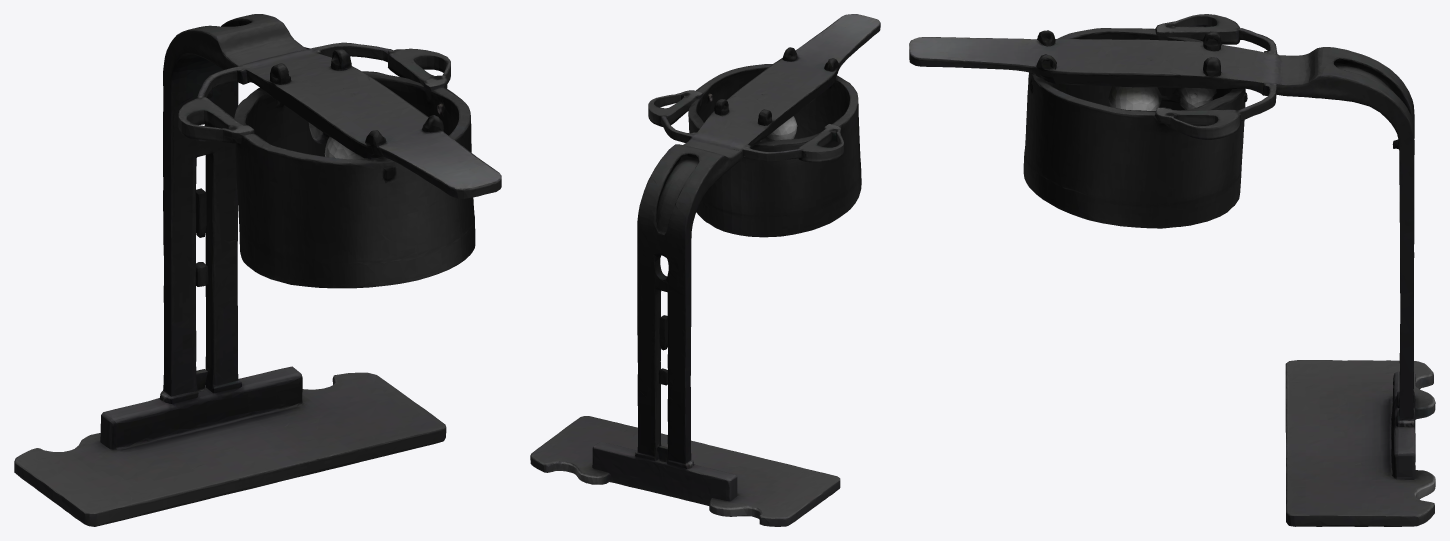
Rendered from ast_9c86b997e241.glb.
The picture shows the model from 3 angles, left to right: view 1: azimuth 30°, elevation 25°; view 2: azimuth 150°, elevation 25°; view 3: azimuth 270°, elevation 25°; orthographic projection. The views are drawn at different scales.
Parts seen in each view (by area): view 1: geometry_0; view 2: geometry_0; view 3: geometry_0.
Part boxes in pixels (box(x1,y1,x2,y2)): geometry_0: box(14, 14, 501, 526); geometry_0: box(530, 14, 880, 526); geometry_0: box(909, 14, 1435, 526).
Bounding box in the file's own units: 0.701 × 0.8553 × 1.
Materials: 1 (1 with a texture image).
